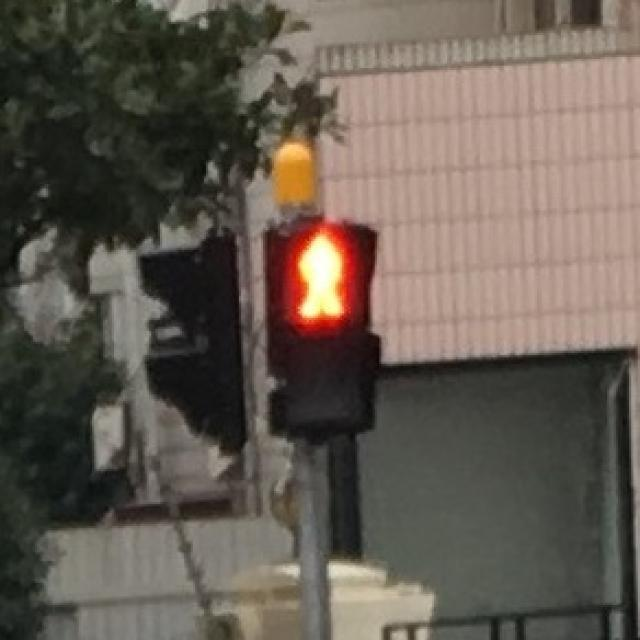red-crossing: (274, 226, 368, 331)
